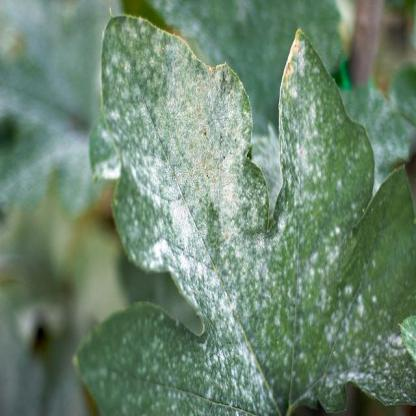squash powdery mildew leaf: (75, 8, 415, 407)
